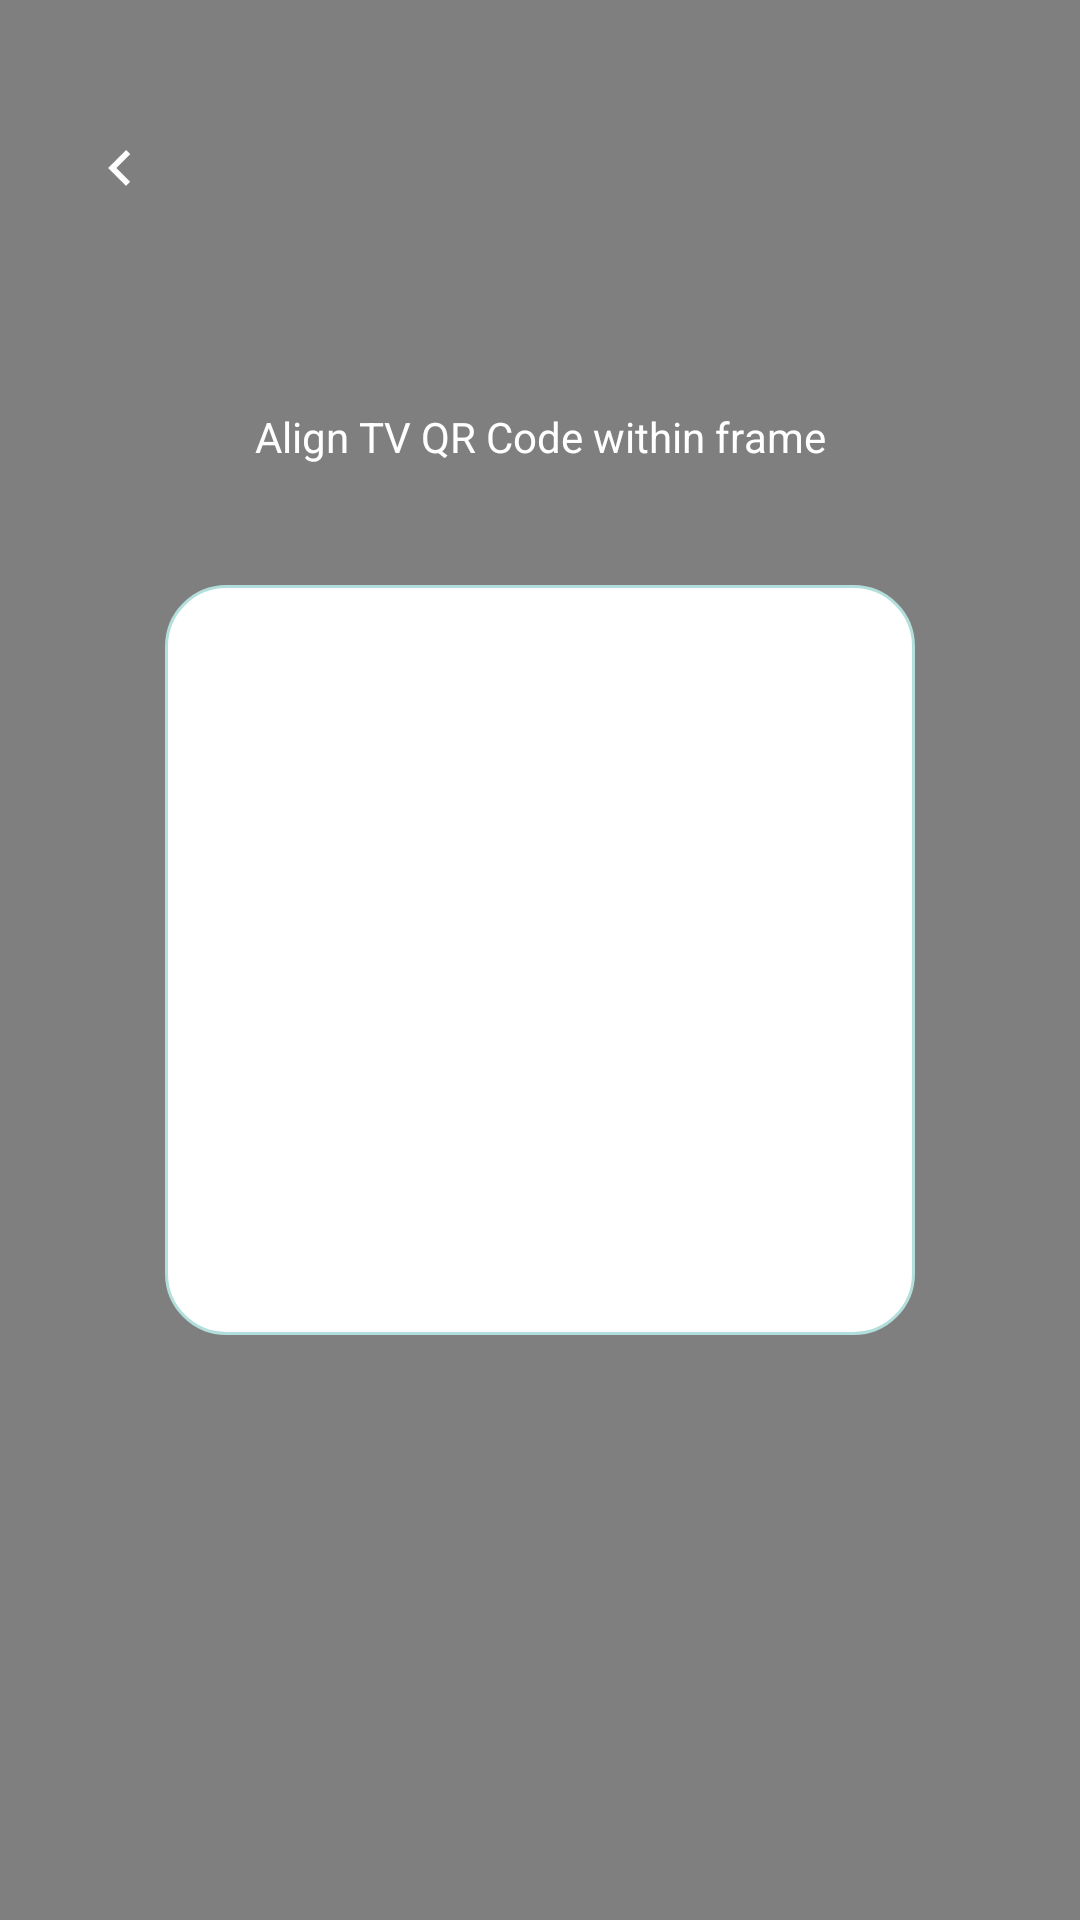

Locate icon controls on the screen. Image size 1080×1920, boxes as bbox=(x1, y1, x2, y2).
arrow back: bbox=(108, 150, 130, 186)
